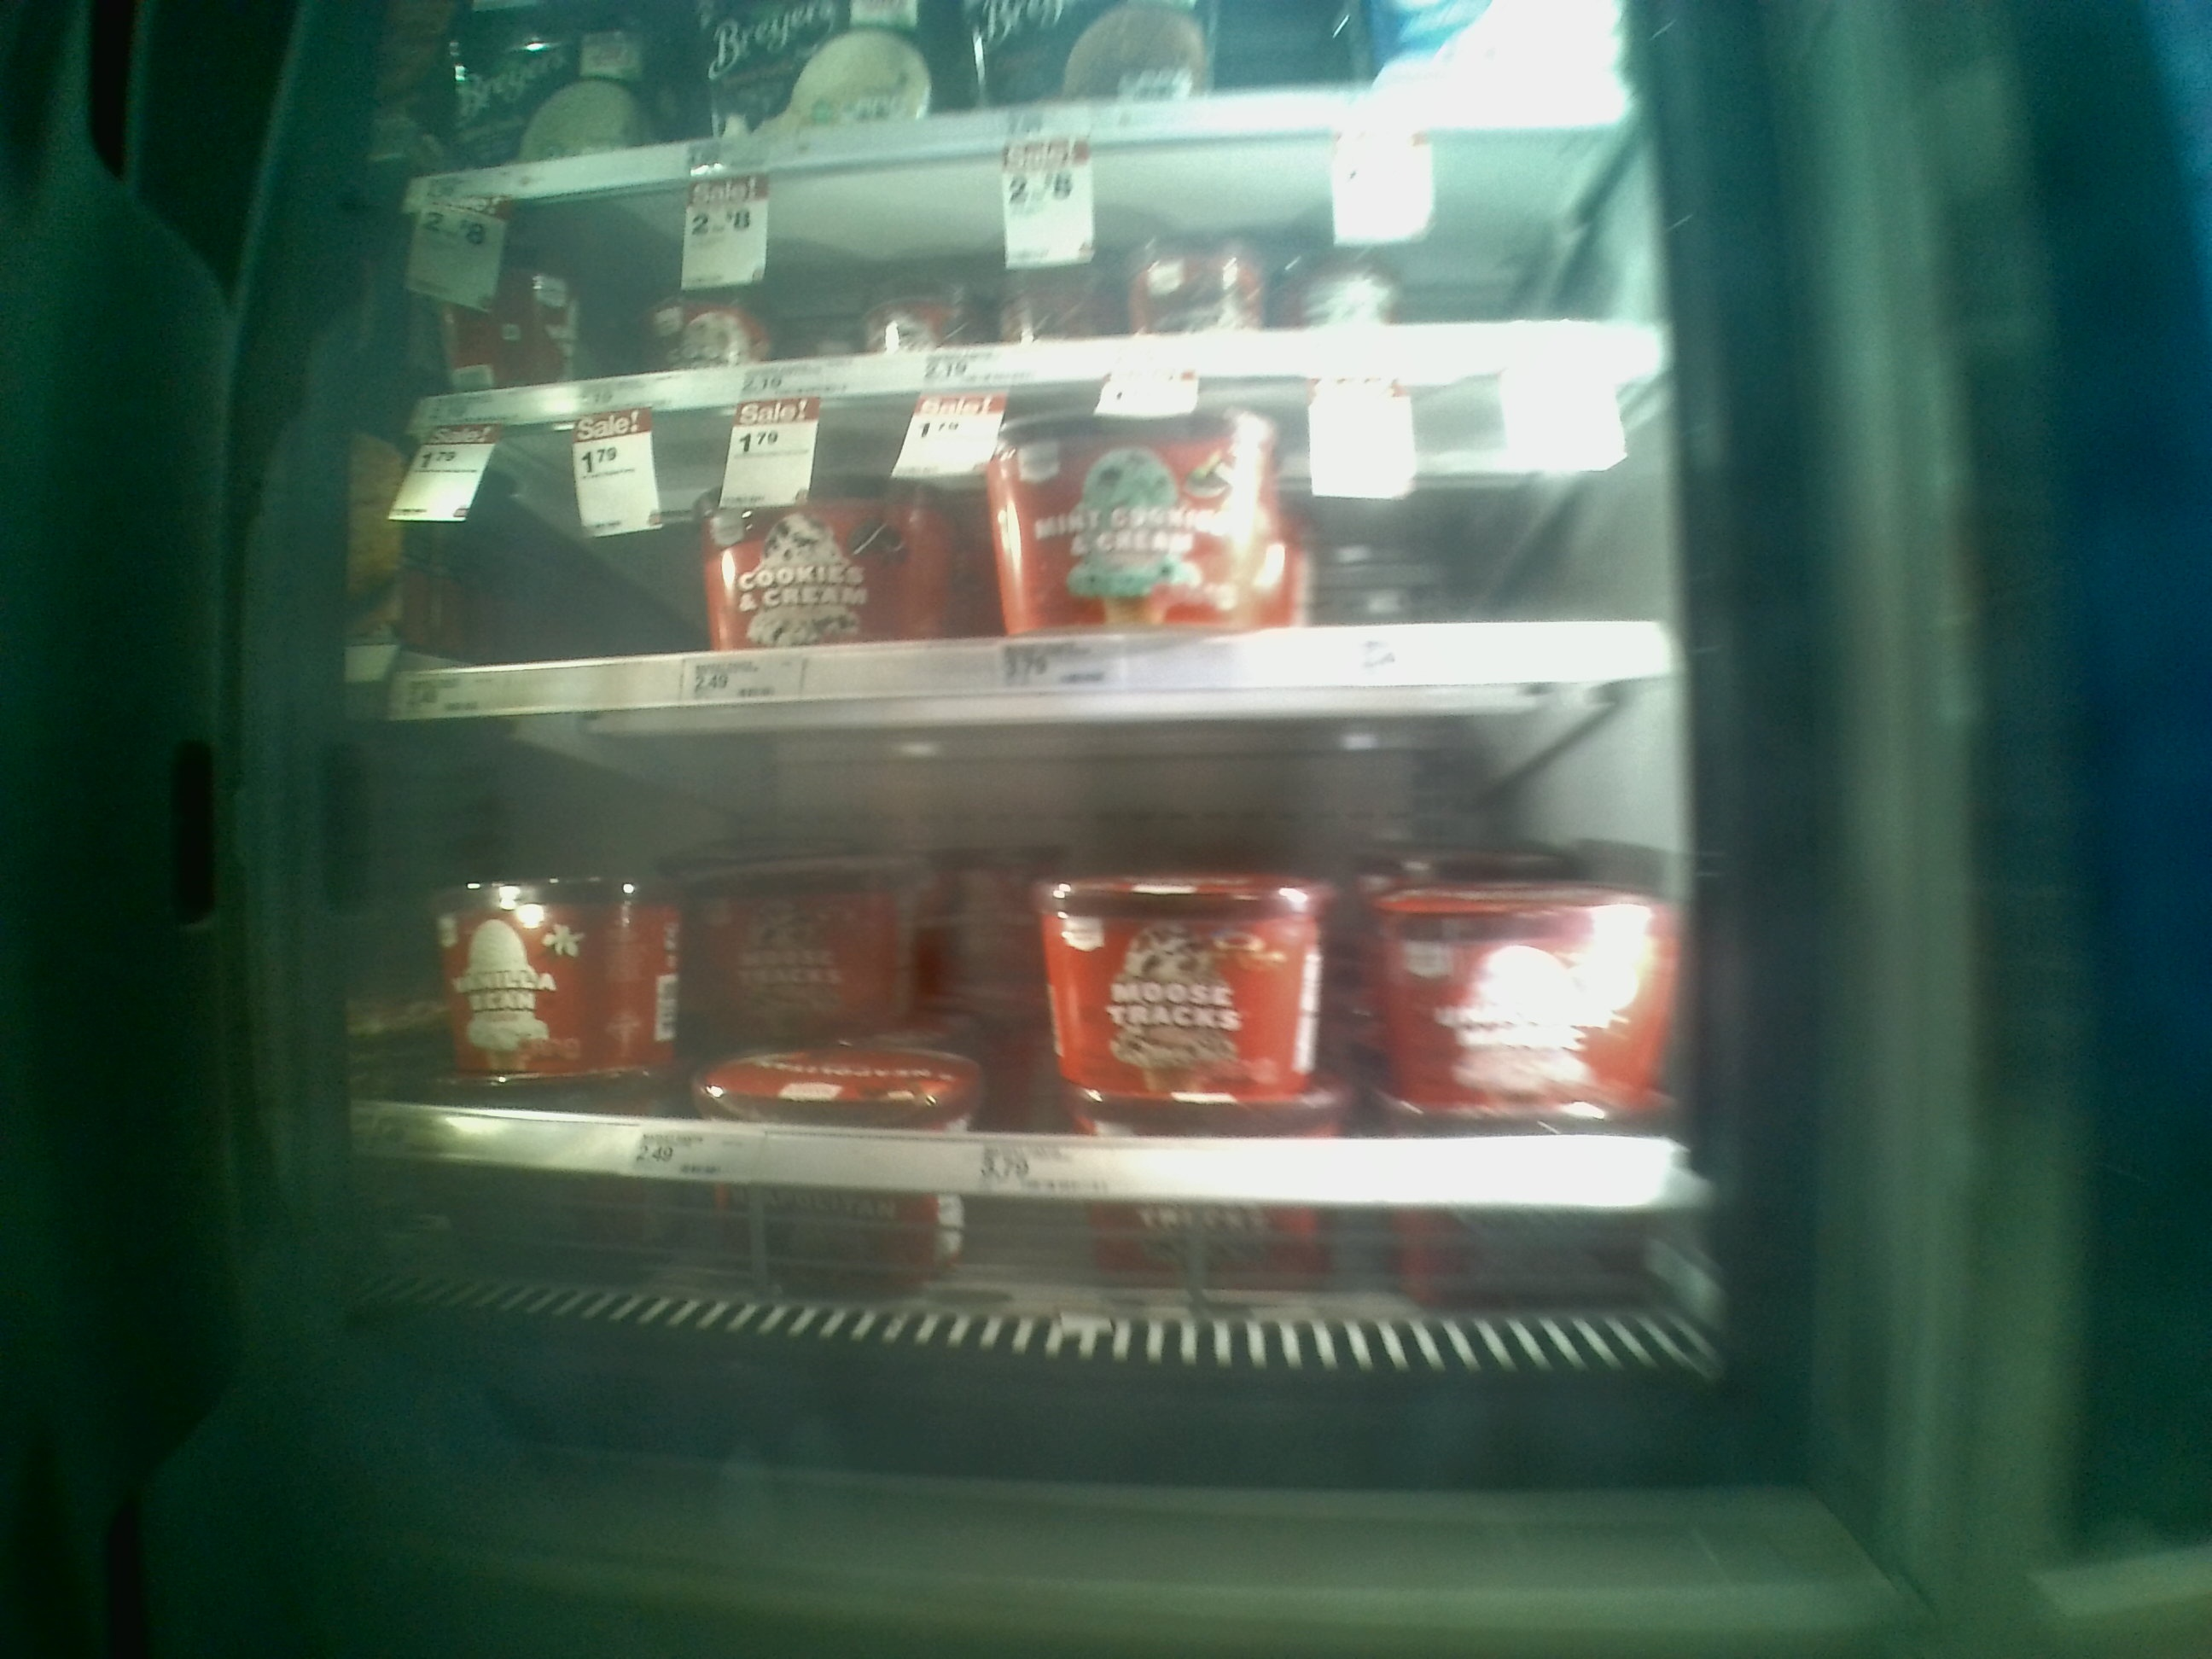ice-cream-shelf: (355, 711, 1702, 1229)
